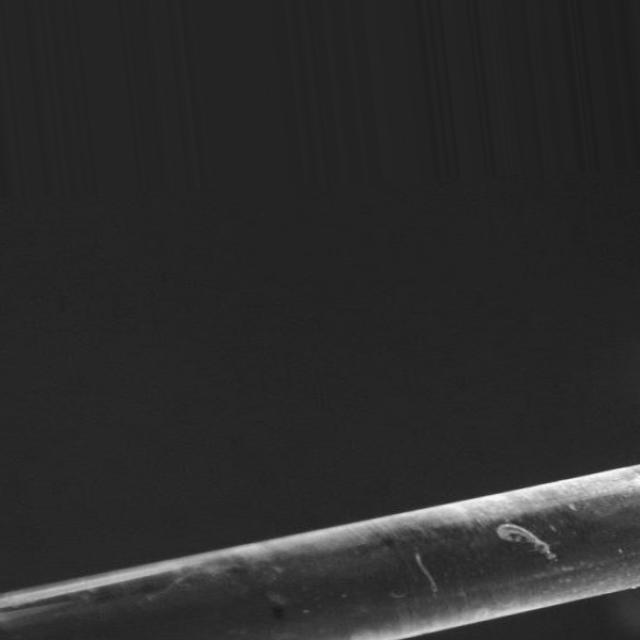larvas: (498, 524, 552, 556), (414, 550, 438, 589)
